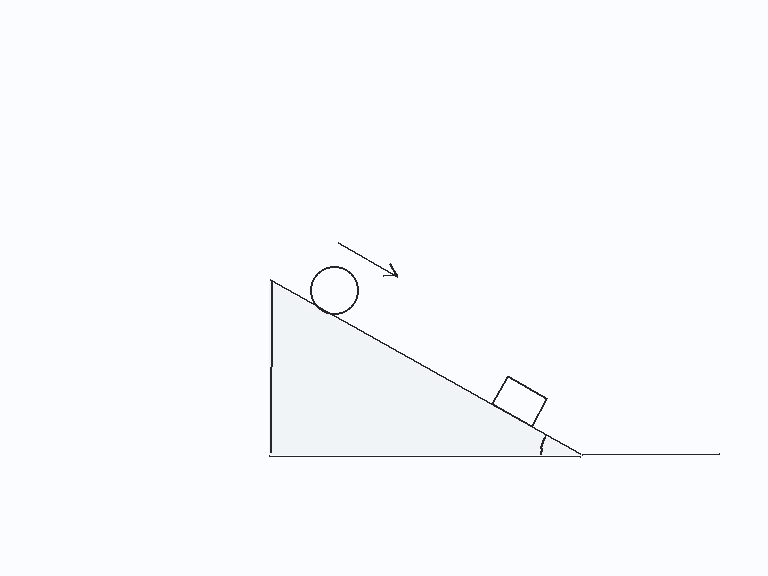ball: (308, 264, 360, 316)
block: (490, 375, 548, 428)
ramp: (268, 279, 583, 456)
